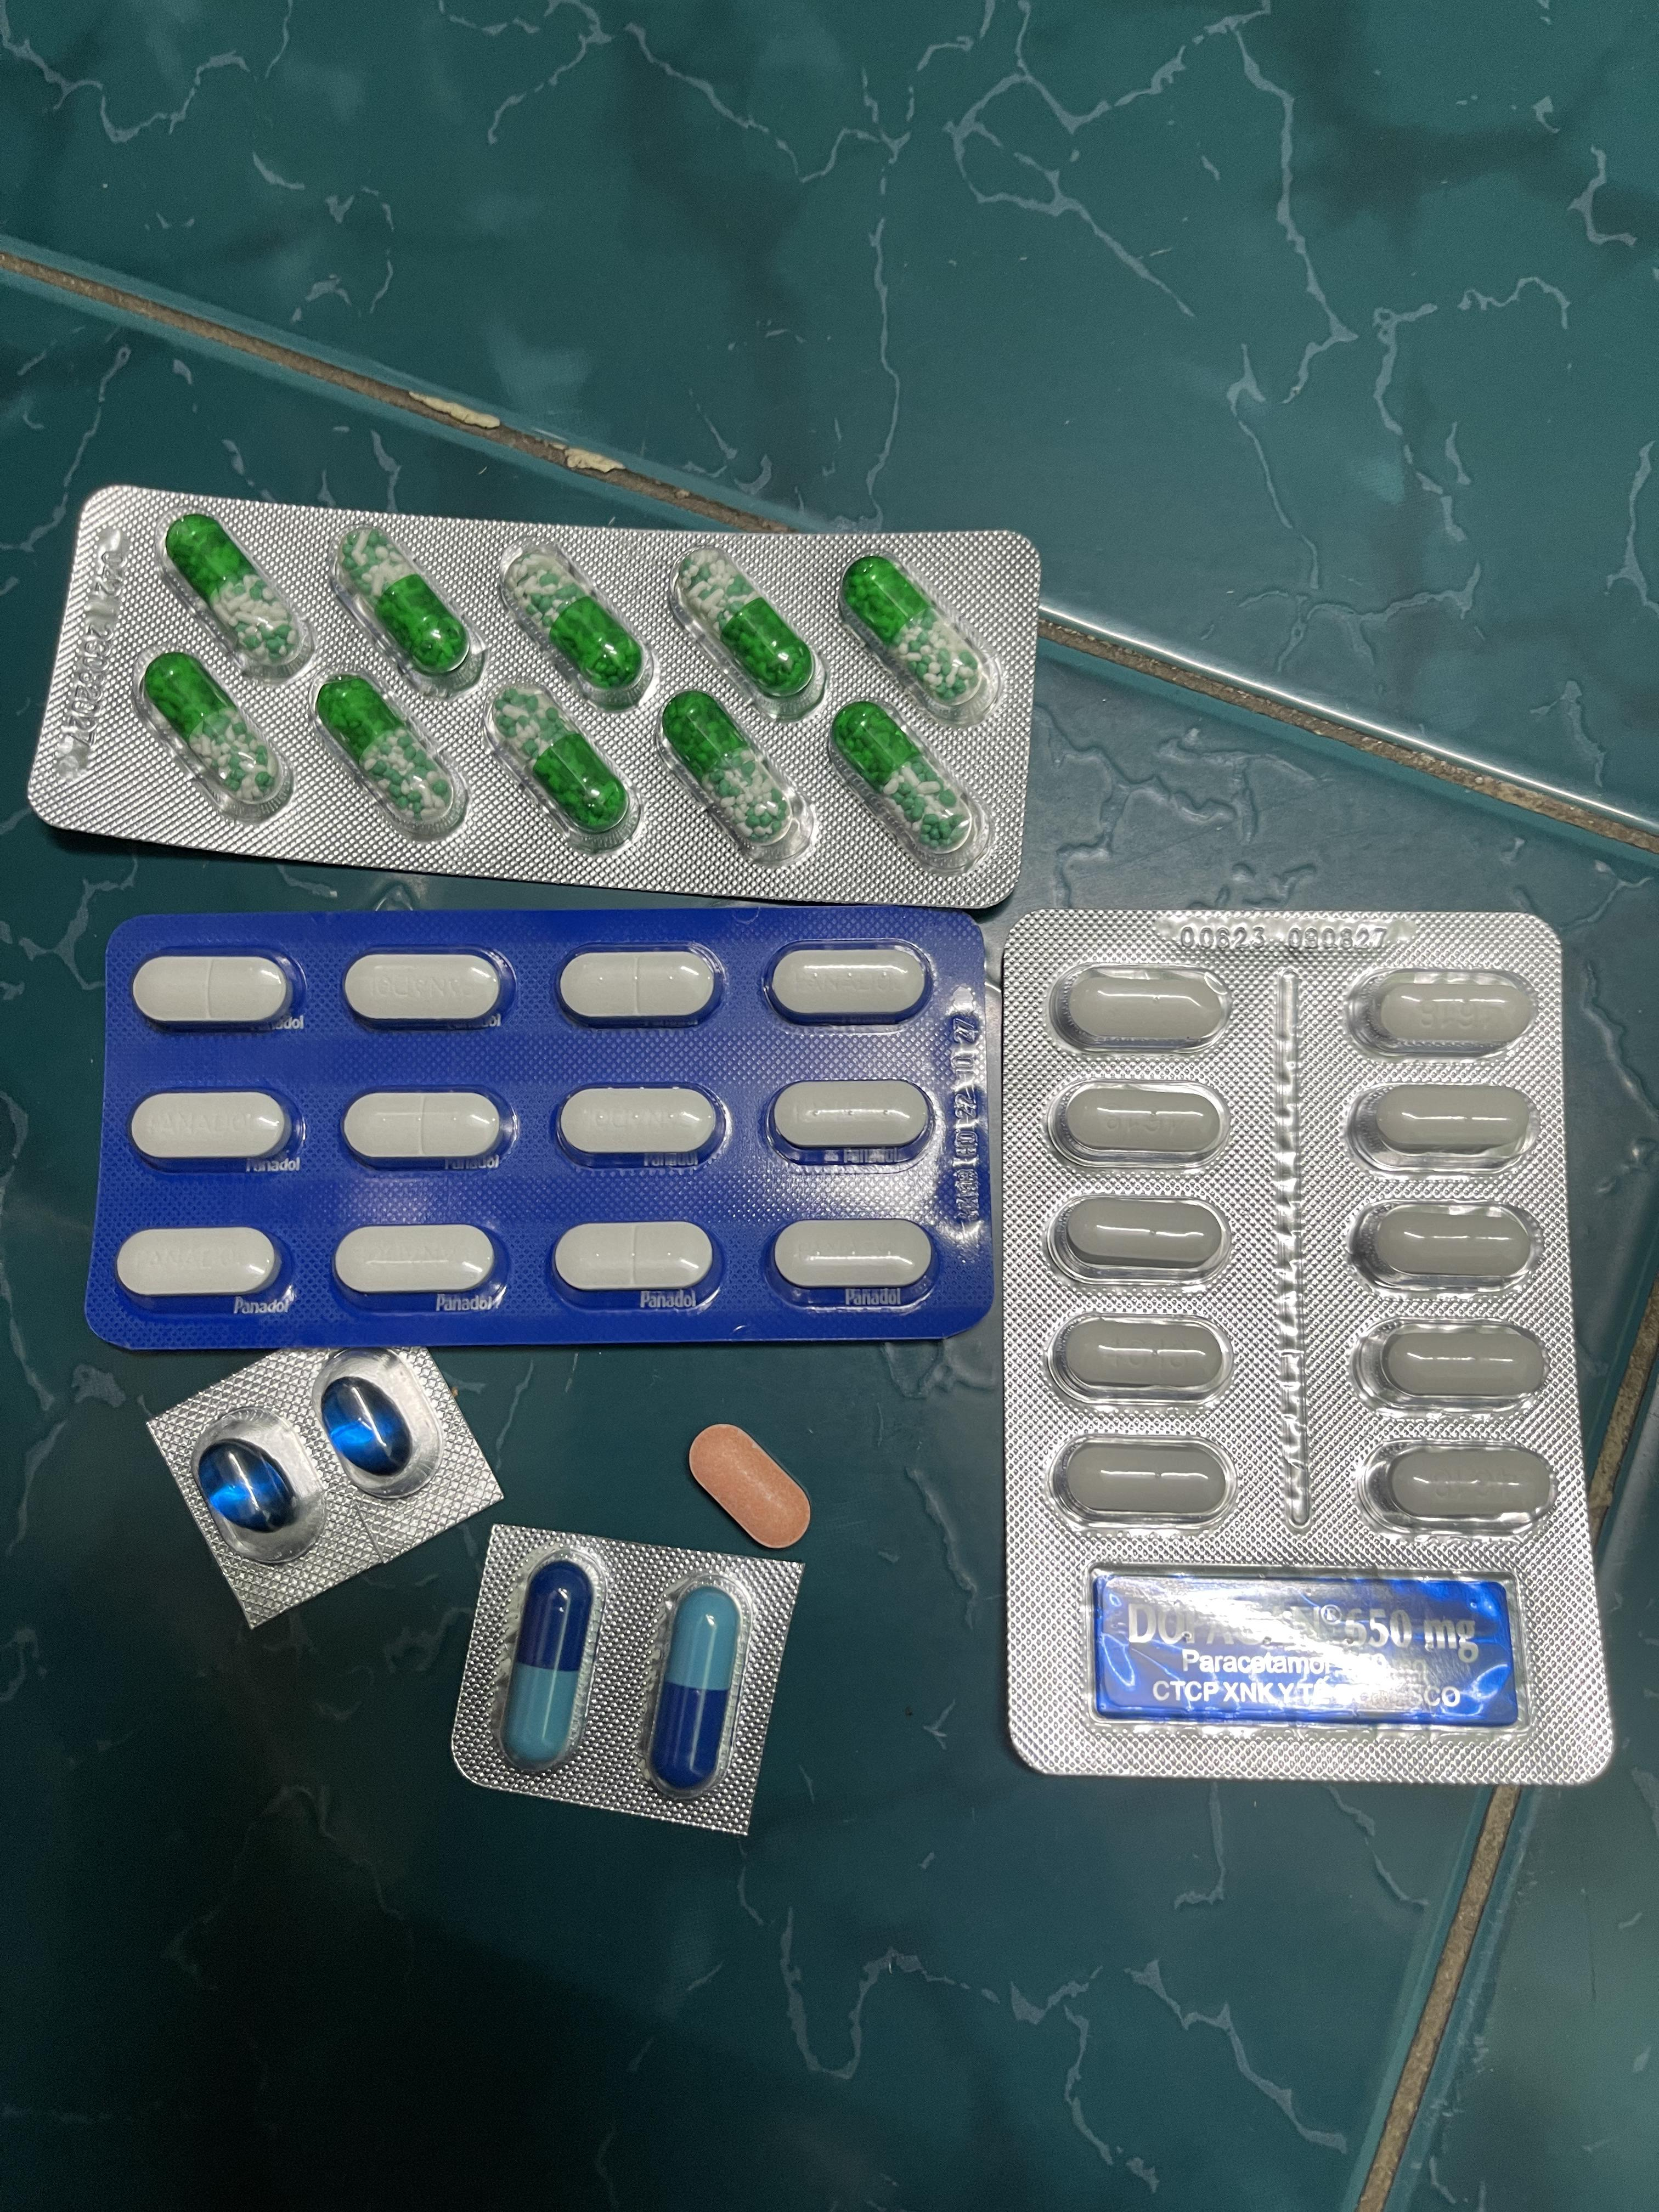Lincomyxin_500mg: (200, 1439, 298, 1533), (322, 1378, 411, 1479)
Loratadine_10mg: (685, 1425, 812, 1552)
Paracetamol_350mg: (115, 1224, 282, 1303), (767, 942, 929, 1022), (129, 1089, 295, 1167), (558, 948, 723, 1026), (558, 1087, 727, 1163), (343, 951, 511, 1028), (132, 953, 296, 1029), (343, 1090, 507, 1167), (769, 1082, 932, 1157), (335, 1224, 498, 1298), (554, 1221, 718, 1294), (772, 1219, 932, 1292)
Paracetamol_500mg: (1366, 1442, 1560, 1534), (1352, 1198, 1547, 1289), (1358, 1317, 1551, 1407), (1347, 1083, 1539, 1170), (1347, 968, 1537, 1055), (1051, 1437, 1227, 1527), (1051, 1313, 1222, 1399), (1051, 1193, 1220, 1278), (1053, 965, 1215, 1050), (1060, 1082, 1227, 1163)
Paracetamol_650mg: (166, 514, 310, 671), (314, 678, 457, 831), (842, 556, 983, 711), (143, 653, 282, 810), (662, 691, 800, 848), (683, 550, 819, 704), (491, 686, 629, 836), (833, 702, 969, 852), (338, 528, 472, 678), (505, 550, 643, 691)
pill: (643, 1571, 753, 1797), (505, 1561, 592, 1766)
